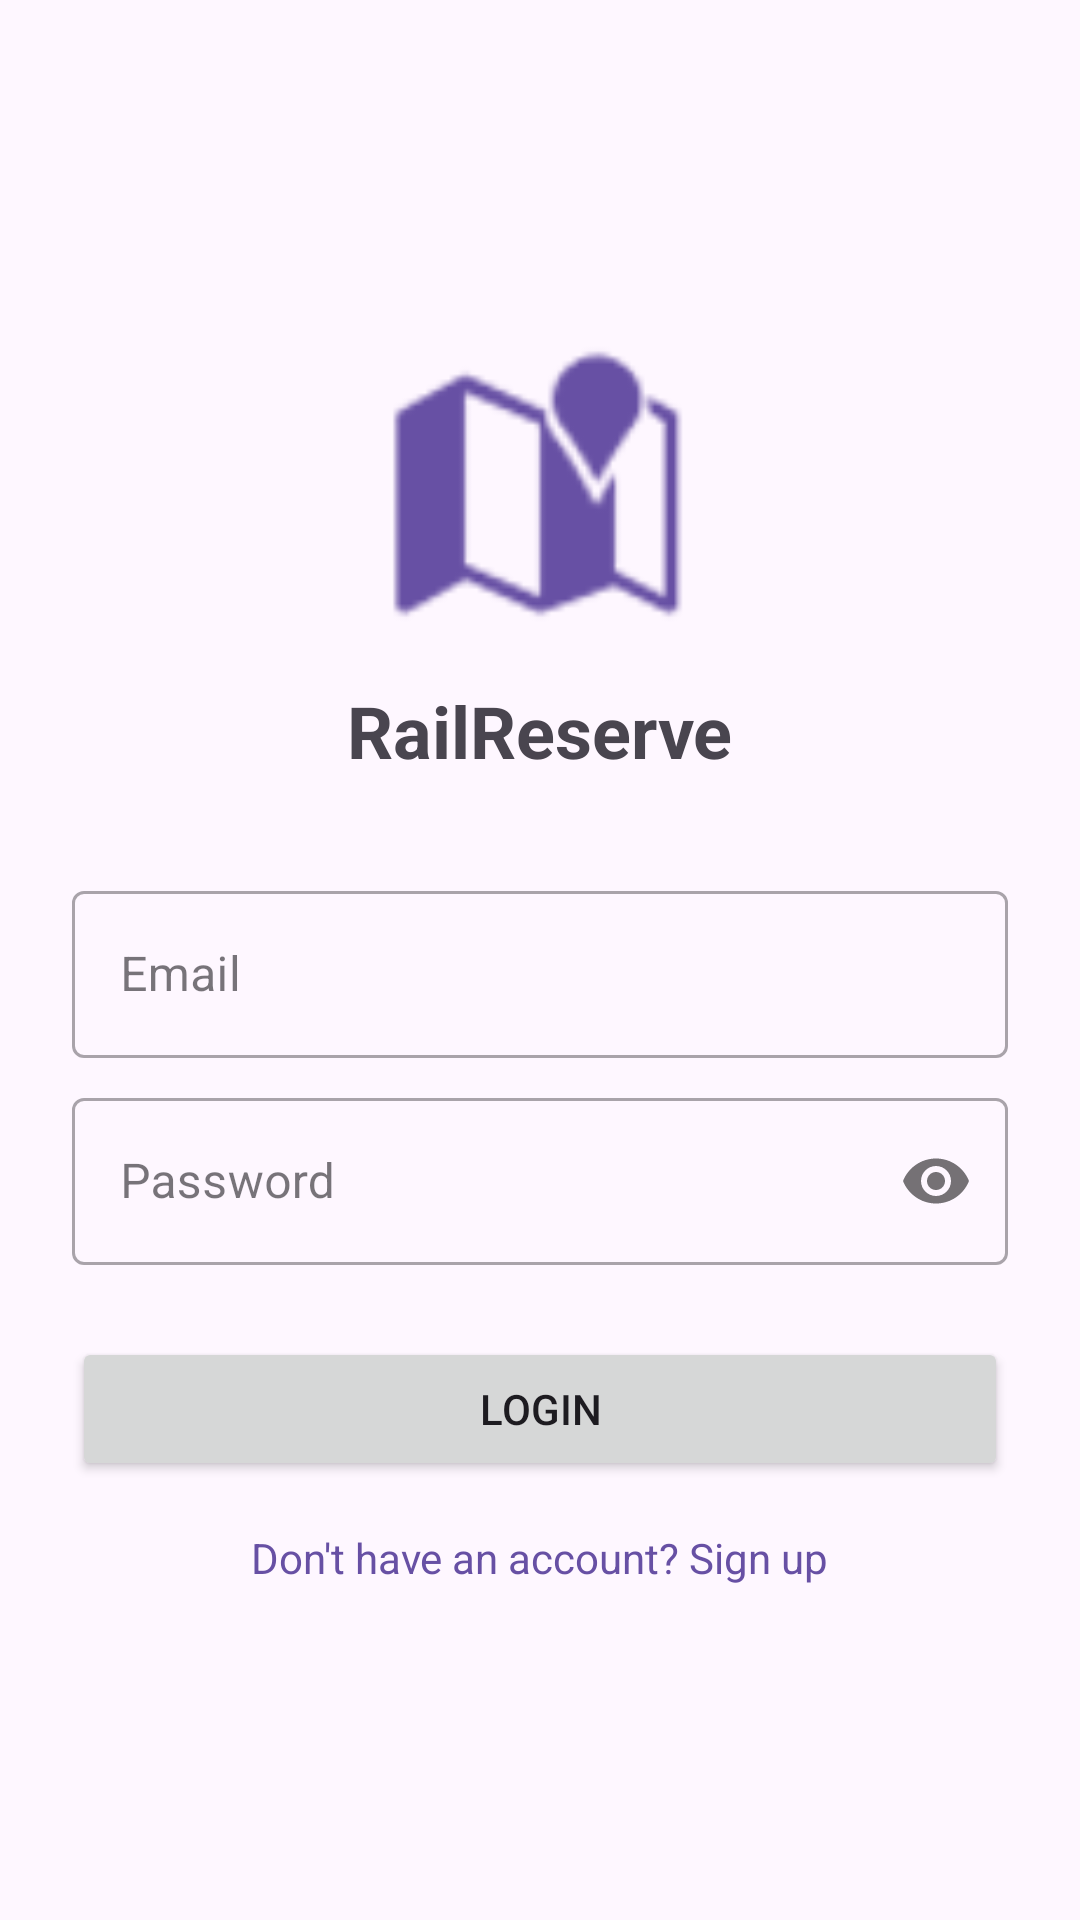

Named icons in this screenshot (1080*1920) and their bounding boxes, bbox=[x1, y1, x2, y2]:
map: bbox=[393, 352, 681, 616]
